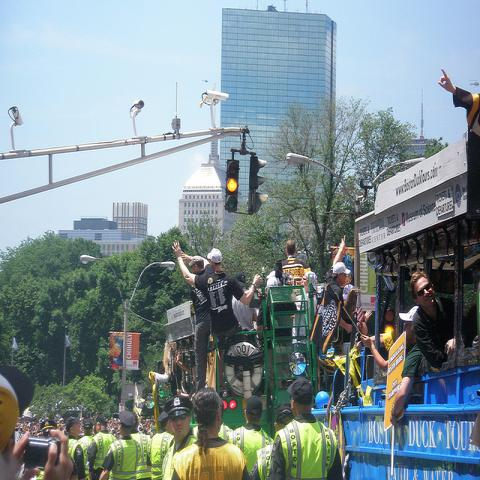bus: (305, 128, 479, 474)
